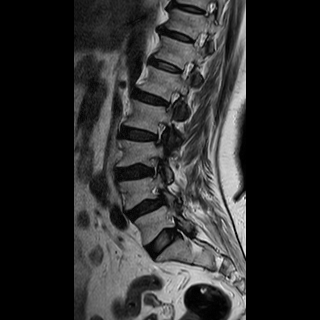RFS0: (143, 115, 172, 150), (159, 83, 184, 116)
RFS2: (140, 151, 171, 183)
